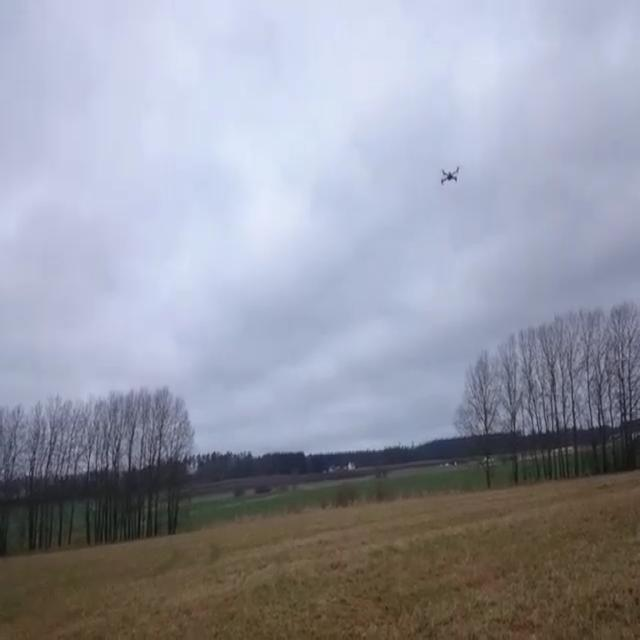Drone: (430, 158, 467, 188)
